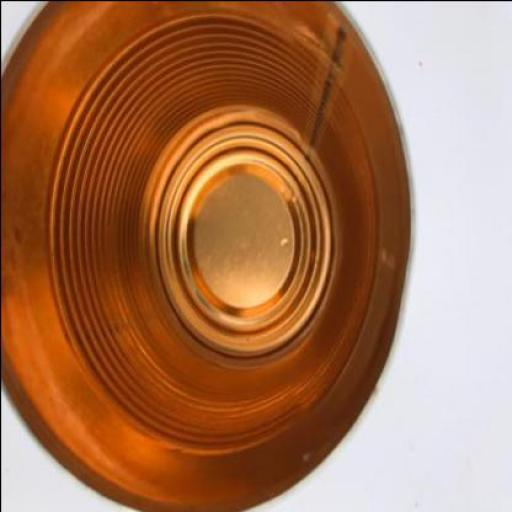metal: (2, 1, 412, 511)
